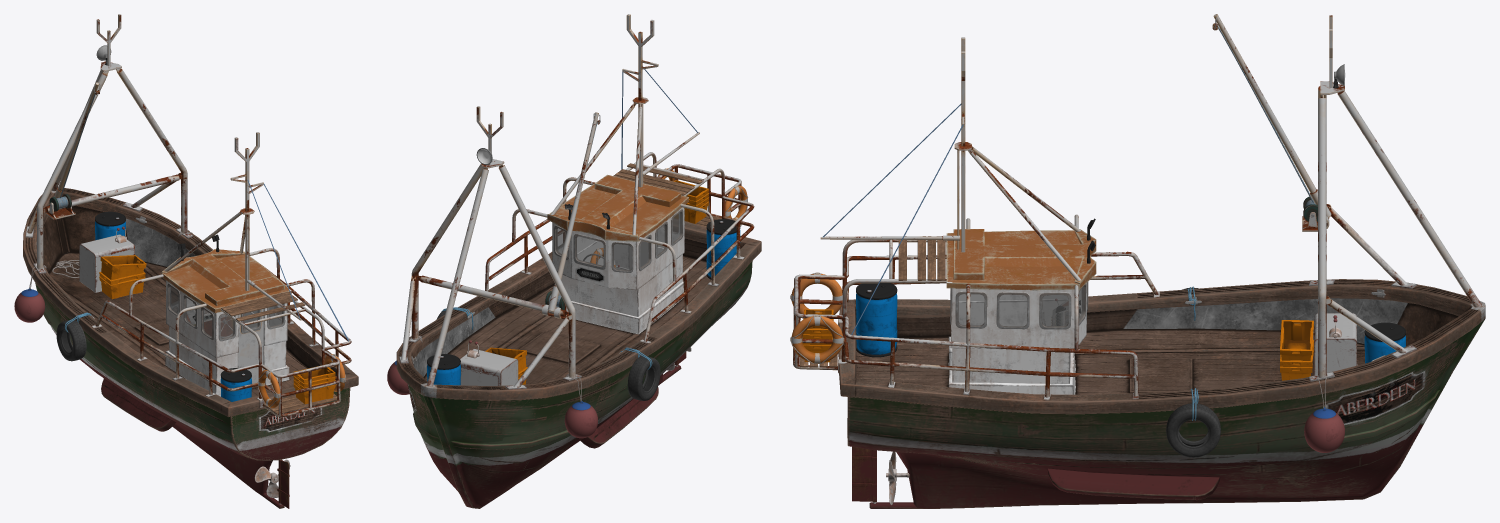
Rendered from fishing_boat.glb.
3 views of the same model, side by side, from view 1: azimuth 30°, elevation 25°; view 2: azimuth 150°, elevation 25°; view 3: azimuth 270°, elevation 25° (orthographic). The views are drawn at different scales.
Visible parts, largest first — view 1: pCube1.001, Vert.002, Cylinder.003, Vert, pCube1.002, Cube.009, Cylinder.018, Cube.028, Roundcube, Cylinder.021, Torus, Cylinder.027 (+8 smaller); view 2: pCube1.001, Cylinder.003, Vert.002, Vert.008, Vert, Roundcube, Cylinder.018, Cube.009, Cylinder.021, Vert.009, Cylinder.008, Cylinder.027 (+3 smaller); view 3: pCube1.001, Vert.002, Cylinder.003, Cylinder.021, Vert.008, Torus, Cylinder.026, Vert, Roundcube, Cylinder.008, Vert.009, Cube.028 (+5 smaller).
Part boxes in pixels (left/top/right/bottom): pCube1.001: left=23, top=188, right=358, bottom=508; Vert.002: left=95, top=266, right=351, bottom=417; Cylinder.003: left=27, top=68, right=187, bottom=268; Vert: left=129, top=248, right=324, bottom=365; pCube1.002: left=238, top=309, right=263, bottom=383; Cube.009: left=230, top=132, right=263, bottom=290; Cylinder.018: left=56, top=319, right=86, bottom=361; Cube.028: left=100, top=255, right=146, bottom=279; Roundcube: left=14, top=288, right=45, bottom=322; Cylinder.021: left=220, top=368, right=251, bottom=401; Torus: left=258, top=354, right=345, bottom=407; Cylinder.027: left=95, top=211, right=125, bottom=240; pCube1.001: left=396, top=174, right=761, bottom=508; Cylinder.003: left=401, top=163, right=575, bottom=387; Vert.002: left=485, top=164, right=754, bottom=341; Vert.008: left=427, top=168, right=488, bottom=386; Vert: left=512, top=152, right=724, bottom=282; Roundcube: left=387, top=360, right=597, bottom=438; Cylinder.018: left=627, top=356, right=660, bottom=400; Cube.009: left=622, top=14, right=658, bottom=187; Cylinder.021: left=706, top=219, right=740, bottom=279; Vert.009: left=547, top=112, right=598, bottom=311; Cylinder.008: left=550, top=103, right=642, bottom=235; Cylinder.027: left=427, top=354, right=460, bottom=385; pCube1.001: left=838, top=229, right=1485, bottom=508; Vert.002: left=793, top=251, right=1158, bottom=397; Cylinder.003: left=1318, top=86, right=1407, bottom=377; Cylinder.021: left=856, top=283, right=897, bottom=357; Vert.008: left=1337, top=91, right=1481, bottom=307; Torus: left=790, top=272, right=844, bottom=363; Cylinder.026: left=1166, top=403, right=1220, bottom=457; Vert: left=842, top=214, right=1078, bottom=350; Roundcube: left=1304, top=407, right=1344, bottom=452; Cylinder.008: left=968, top=146, right=1080, bottom=280; Vert.009: left=1213, top=14, right=1331, bottom=217; Cube.028: left=1280, top=320, right=1313, bottom=363.
Size of the model in its own units: 4.17 by 7.57 by 9.85.
3 materials, 3 textured.
